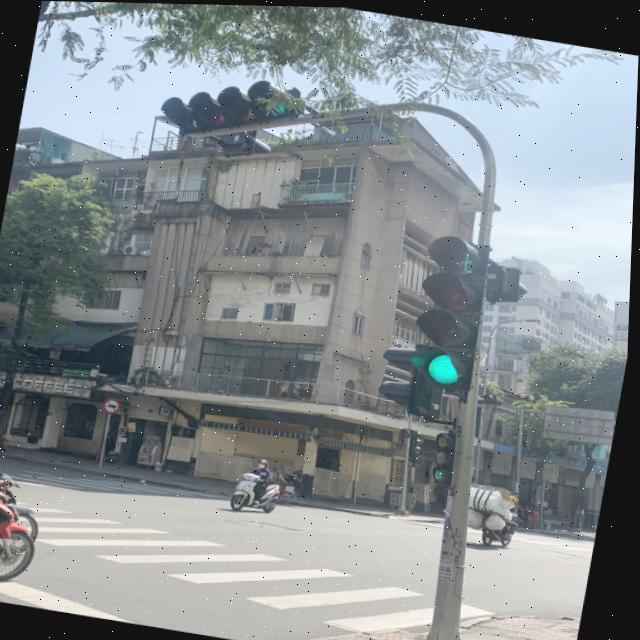Green: (391, 264, 507, 396)
